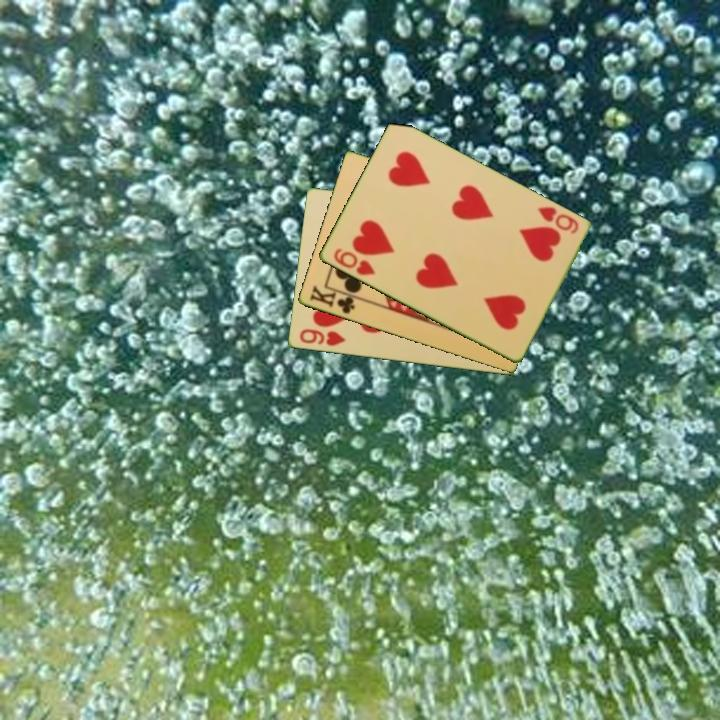6h: (330, 245, 378, 279), (534, 203, 581, 237)
9h: (296, 325, 348, 349)
Kc: (306, 282, 363, 317)
